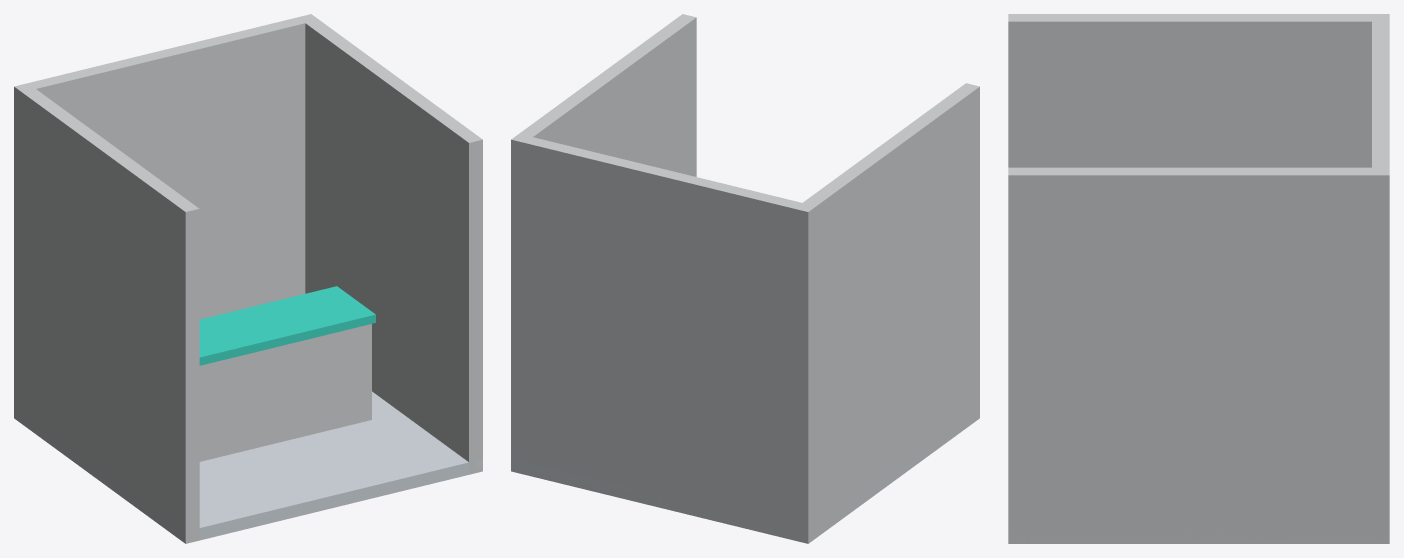
3 renders of one model, left to right at view 1: azimuth 30°, elevation 25°; view 2: azimuth 150°, elevation 25°; view 3: azimuth 270°, elevation 25°, orthographic. The views are drawn at different scales.
Visible parts, largest first — view 1: Exhibition Booth Concept; view 2: Exhibition Booth Concept; view 3: Exhibition Booth Concept.
Part boxes in pixels (x1,y1,x2,y2): Exhibition Booth Concept: (14, 14, 482, 543); Exhibition Booth Concept: (511, 14, 979, 543); Exhibition Booth Concept: (1008, 14, 1389, 543).
Size of the model in its own units: 3 by 3.2 by 3.
